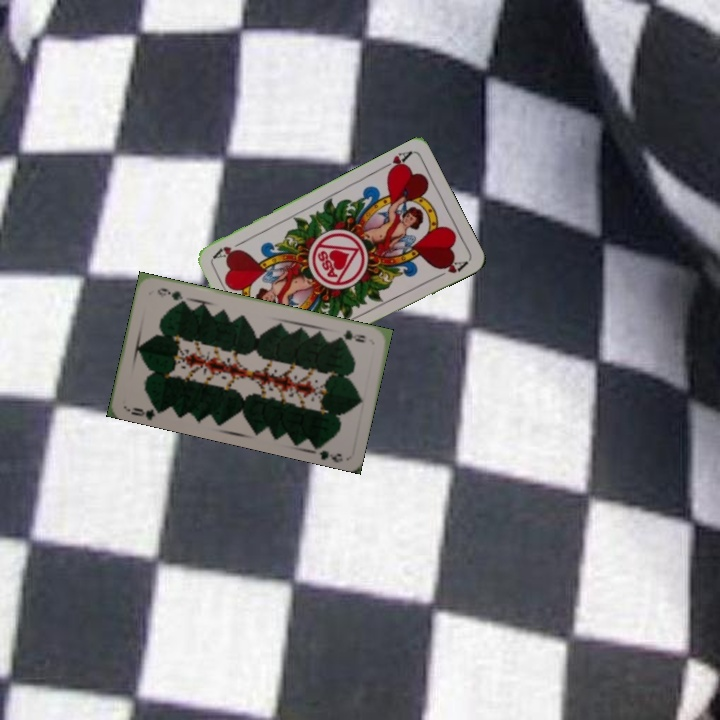G9: (123, 401, 164, 422), (334, 326, 368, 345)
HA: (376, 147, 414, 177)
